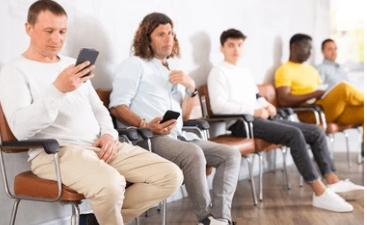phone: (0, 0, 99, 143), (111, 8, 199, 136)
